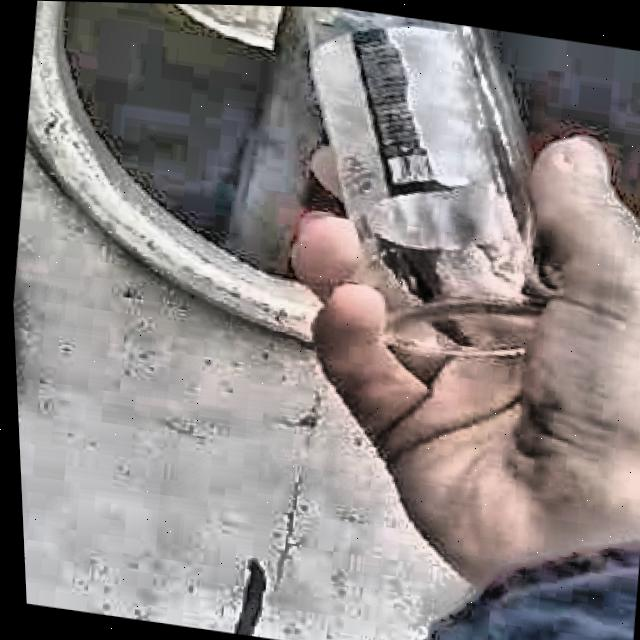glass: (300, 5, 547, 377)
